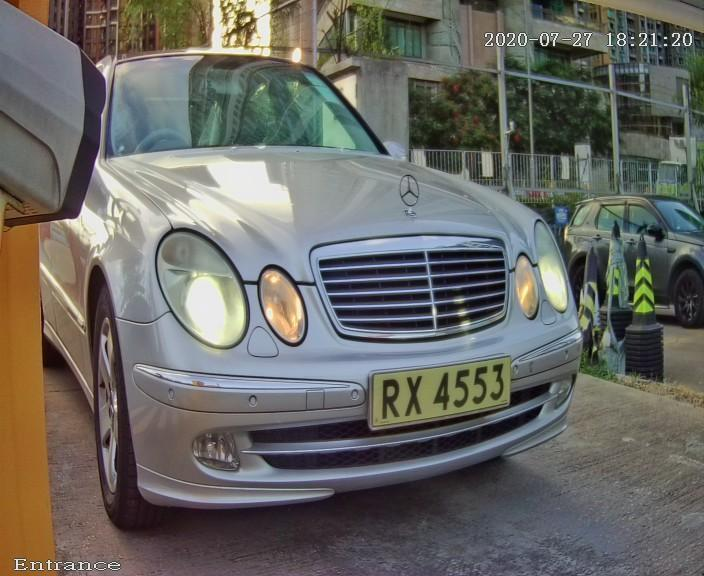privatecar: (41, 8, 626, 541)
